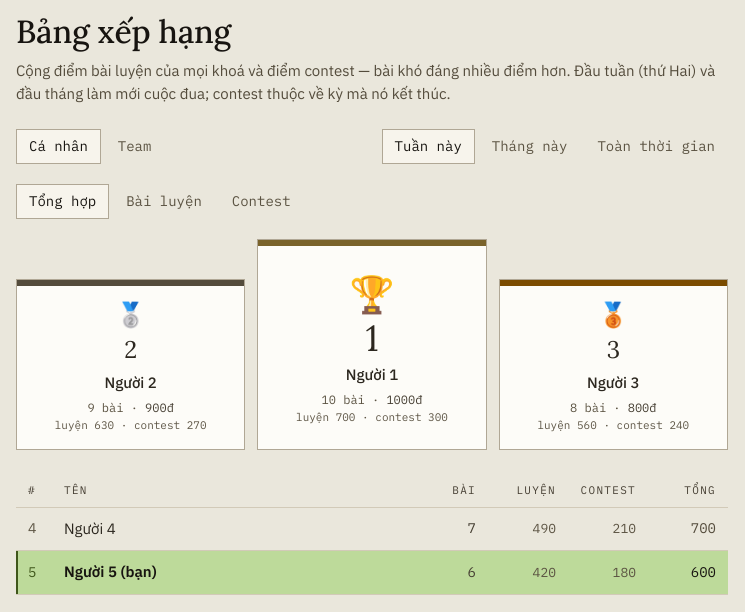
it: BXHPage › chọn Bài luyện thì gọi source=practice và bảng về một cột Điểm
Expected: the text "Người 1" is shown, [346,364,398,386]
Click the tab "Bài luyện".
click(164, 202)  # box [113,184,215,219]
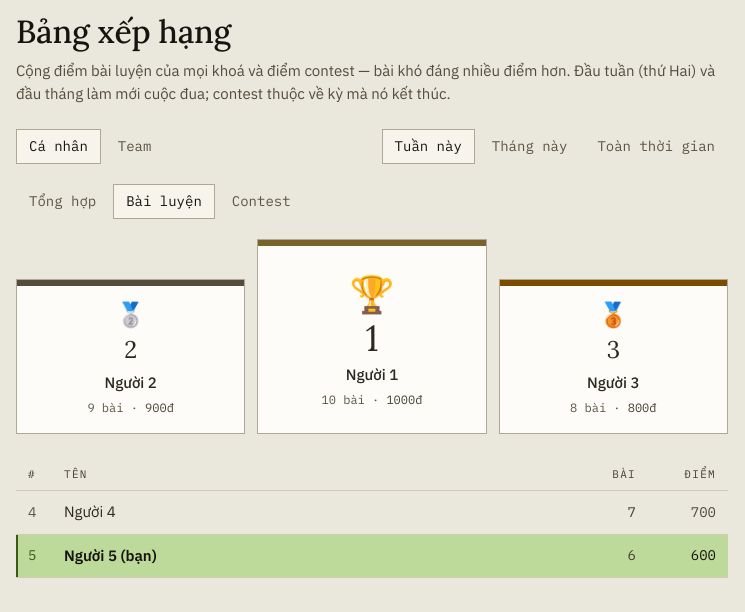
Expected: the table is shown, [16,458,728,578]
Now the column heading "Điểm" is shown, box [648,458,728,490]
